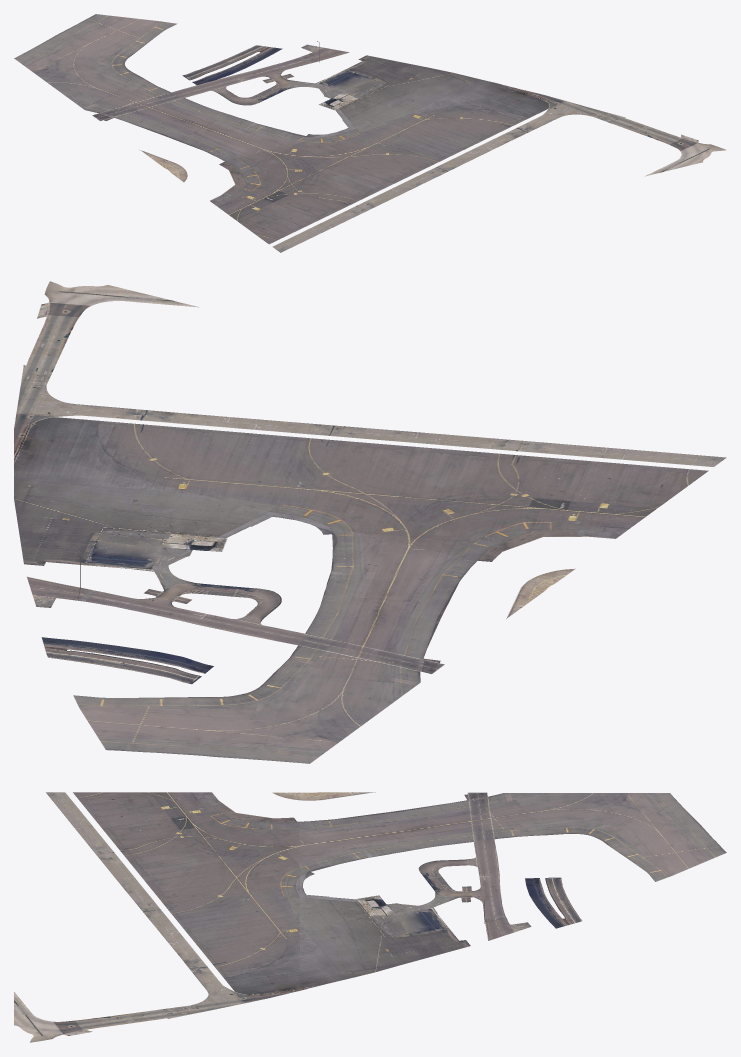
Rendered from roads_context_14.glb.
3 renders of one model, top to bottom at view 1: azimuth 30°, elevation 25°; view 2: azimuth 150°, elevation 25°; view 3: azimuth 270°, elevation 25°, orthographic. The views are drawn at different scales.
Visible parts, largest first — view 1: I105001800001062A1.001; view 2: I105001800001062A1.001; view 3: I105001800001062A1.001.
Boxes of the visible parts, <box> form: I105001800001062A1.001: <box>14,14,726,252</box>; I105001800001062A1.001: <box>14,281,726,763</box>; I105001800001062A1.001: <box>14,792,726,1042</box>.
Size of the model in its own units: 313 by 21.83 by 375.
7 materials, 7 textured.
